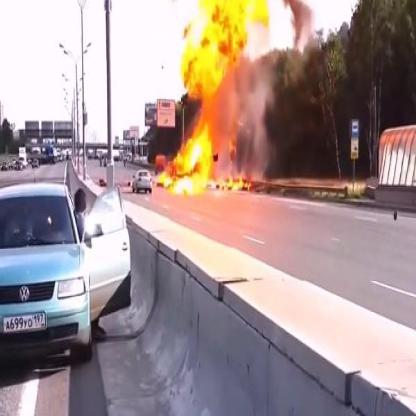fire: (155, 0, 274, 199)
